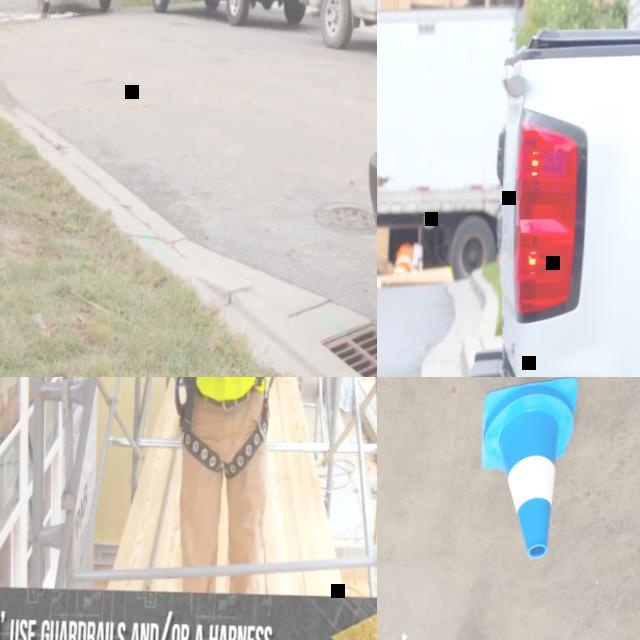Person: (119, 377, 336, 595)
Safety Cone: (472, 377, 582, 561), (395, 246, 416, 278)
vehicle: (397, 8, 640, 377), (358, 0, 377, 377)
